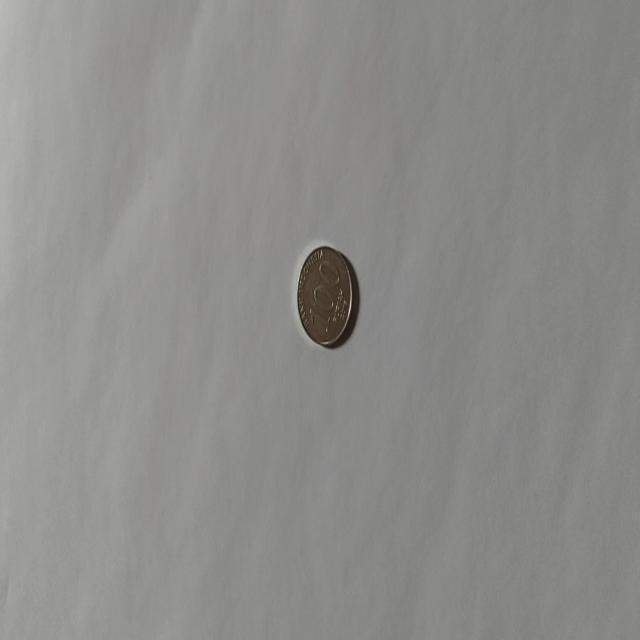seratus rupiah: (296, 245, 352, 348)
